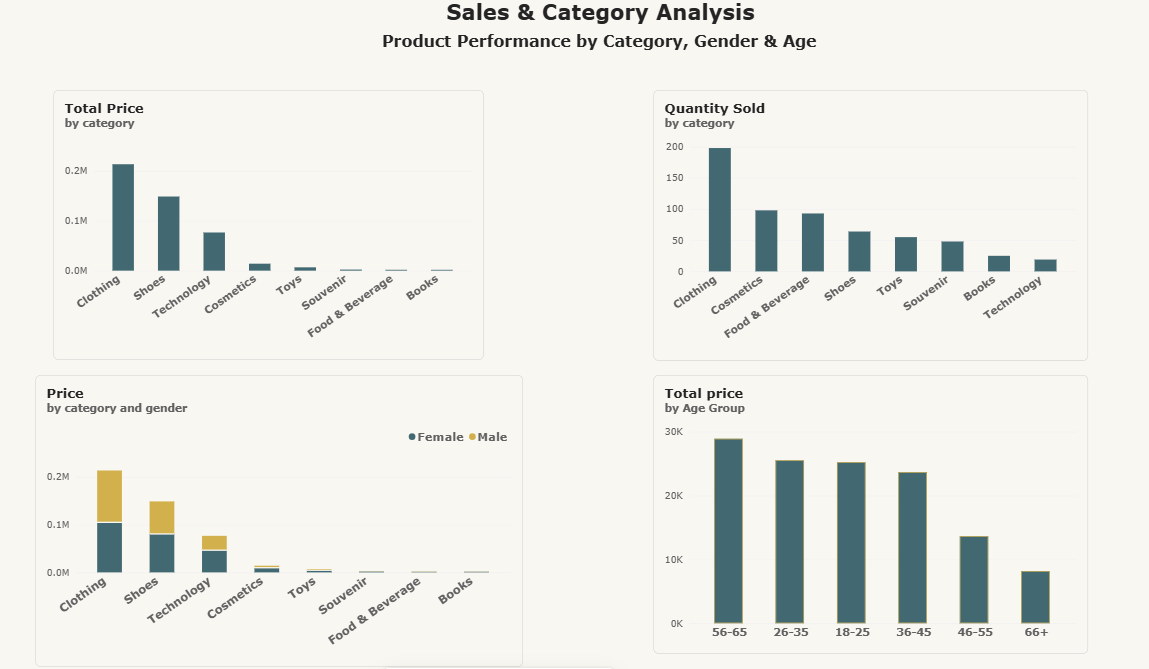

The dashboard page shown, as its layout file describes it:
{"tool":"powerbi","page":{"name":"Sales & Category Analysis","canvas":[1920,1080],"ordinal":1},"visuals":[{"type":"textbox","box":[742.2,28.9,604.4,100],"z":0},{"type":"textbox","box":[644.4,80,822.2,48.9],"z":1000},{"type":"clusteredColumnChart","title":"Total Price","fields":{"Category":["customers_analysis (1).category"],"Y":["customers_analysis (1).Total Sales"]},"box":[146.7,168.9,651.1,408.9],"z":2000},{"type":"clusteredColumnChart","title":"Quantity Sold ","fields":{"Y":["Sum(customers_analysis (1).quantity)"],"Category":["customers_analysis (1).category"]},"box":[1055.6,168.9,657.8,410],"z":3000},{"type":"columnChart","title":"Price","fields":{"Category":["customers_analysis (1).category"],"Y":["customers_analysis (1).Total Sales"],"Series":["customers_analysis (1).gender"]},"box":[120,600,737.8,442.2],"z":4000},{"type":"clusteredColumnChart","title":"Total price","fields":{"Category":["customers_analysis (1).Age Group"],"Y":["Sum(customers_analysis (1).price)"]},"box":[1055.6,600,657.8,422.2],"z":5000}]}

Visuals, with their boxes on the page's 1920x1080 design canvas (x1, y1, x2, y2). These are canvas units, not pixel positions in the 1149x669 screenshot, which may show the page scaled, cropped or inside an application window:
textbox: box=[742, 29, 1347, 129]
textbox: box=[644, 80, 1467, 129]
"Total Price" clusteredColumnChart: box=[147, 169, 798, 578]
"Quantity Sold " clusteredColumnChart: box=[1056, 169, 1713, 579]
"Price" columnChart: box=[120, 600, 858, 1042]
"Total price" clusteredColumnChart: box=[1056, 600, 1713, 1022]
